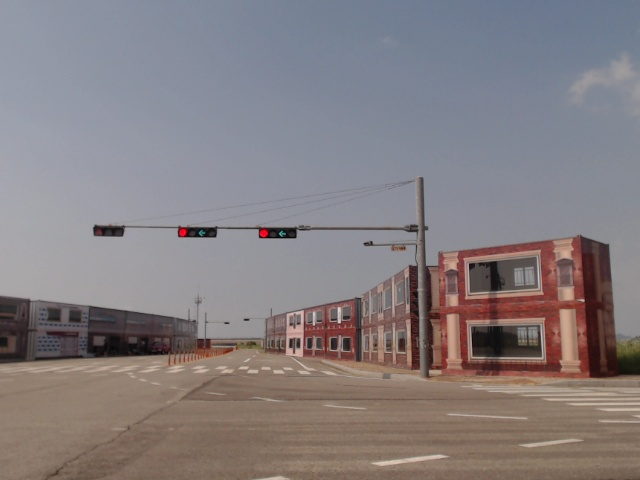left_green_4: (259, 228, 296, 239), (178, 228, 216, 237)
